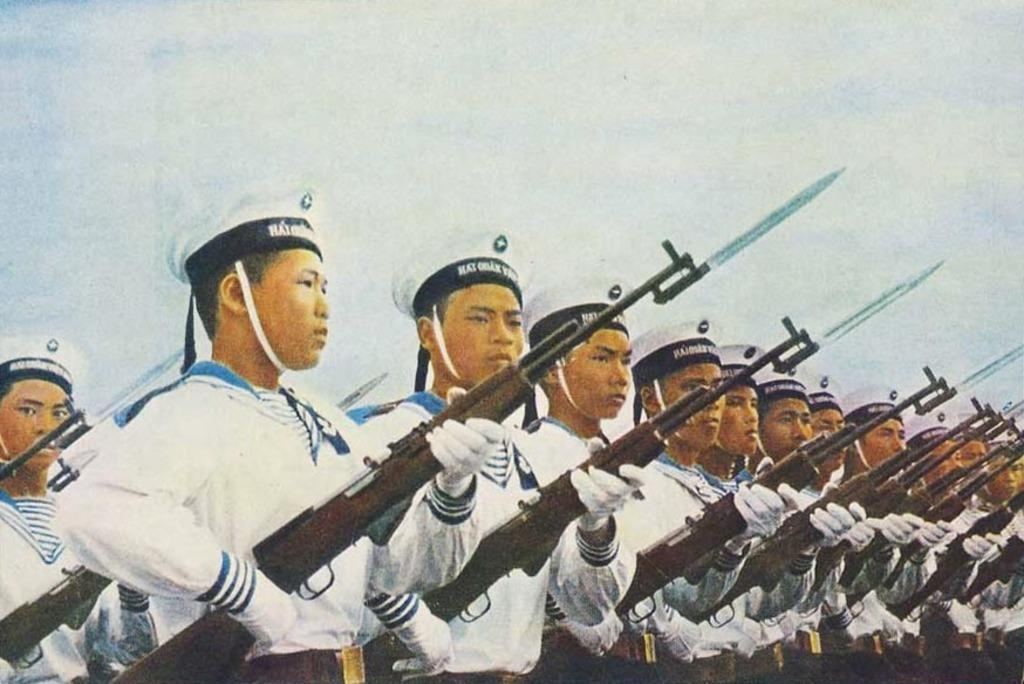Rifle: (107, 170, 841, 683)
